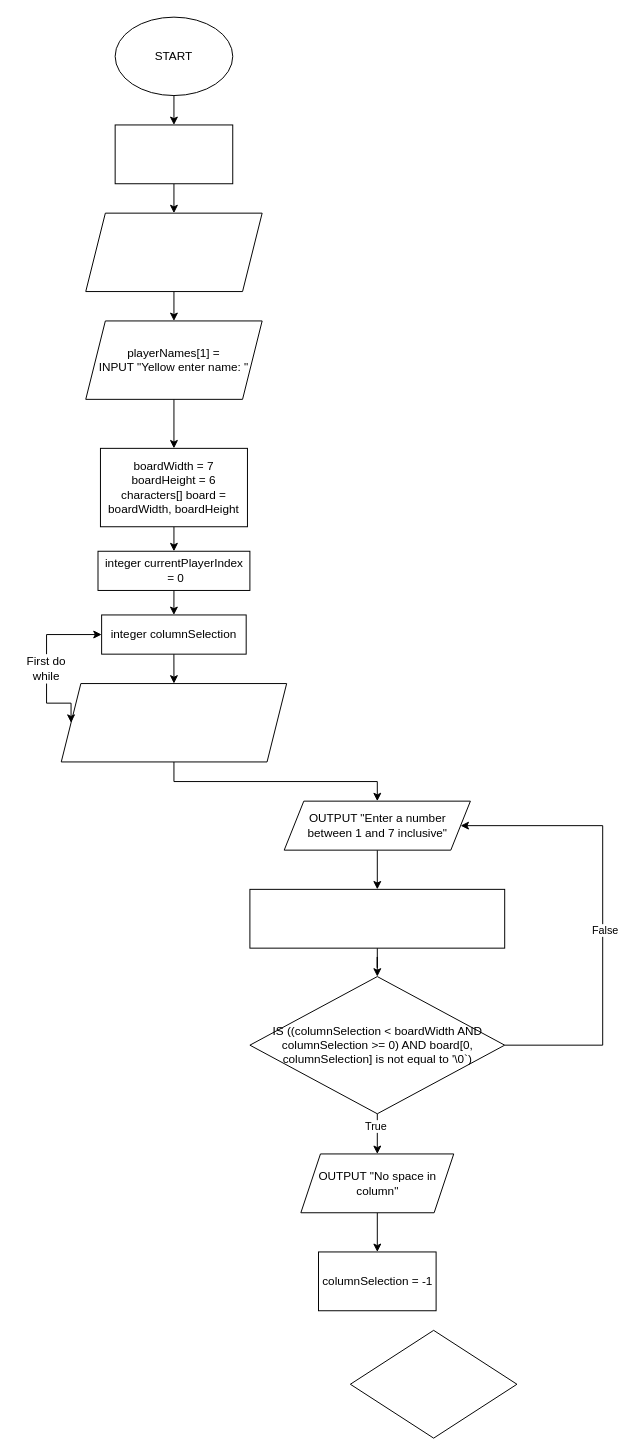
The diagram is 635 pixels wide and 1455 high, and some of its shapes have lost their labels. Here are the shapes that lost their labels. From the top down, the box of each, then its label:
(114, 124, 233, 184): string[] playerNames = 2
(85, 212, 262, 292): playerNames[0] = INPUT "Red enter name: "
(60, 683, 287, 762): OUTPUT playerNames[currentPlayerIndex] + "please select a column number"
(249, 888, 505, 948): columnSelection = Integer.Parse(playerNames[currentPlayerIndex]
(349, 1329, 517, 1438): columnSelection < 0
